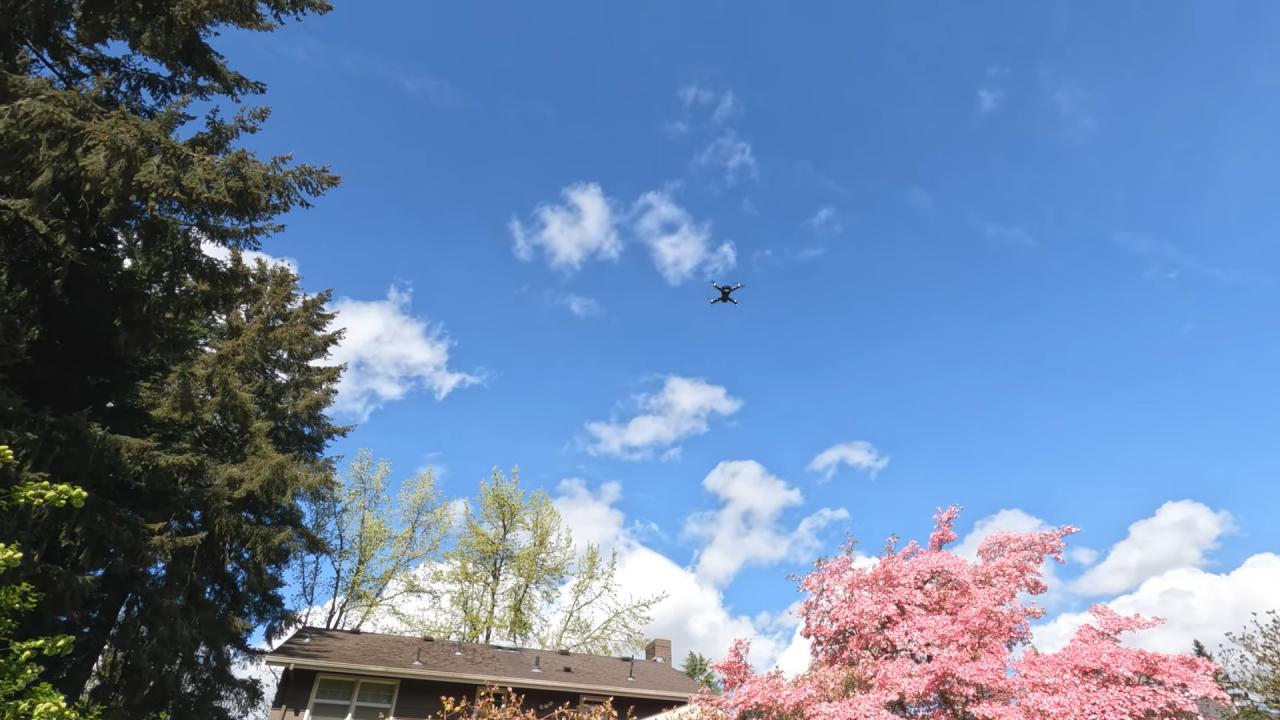Drone: (699, 270, 753, 318)
